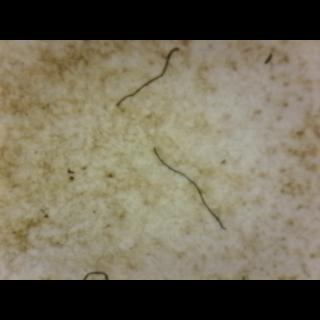Microplastic: (148, 137, 248, 235), (118, 44, 186, 112), (81, 254, 111, 280), (82, 271, 109, 280)
